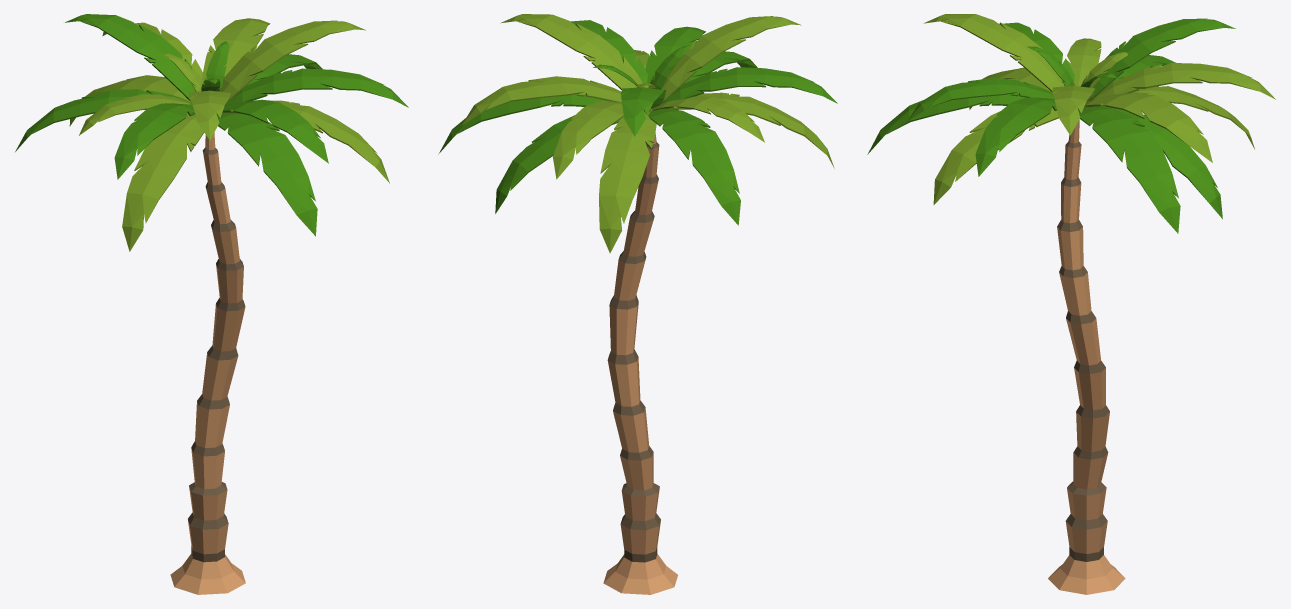
File: coconut_tree.fbx
The picture shows the model from 3 angles, left to right: view 1: azimuth 30°, elevation 25°; view 2: azimuth 150°, elevation 25°; view 3: azimuth 270°, elevation 25°; orthographic projection.
Parts seen in each view (by area): view 1: Cononut Tree; view 2: Cononut Tree; view 3: Cononut Tree.
Boxes of the visible parts, box(x1,y1,x2,y2) form: Cononut Tree: box(15, 14, 408, 594); Cononut Tree: box(438, 14, 837, 594); Cononut Tree: box(867, 14, 1275, 594).
Bounding box in the file's own units: 1117 × 1872 × 1308.
